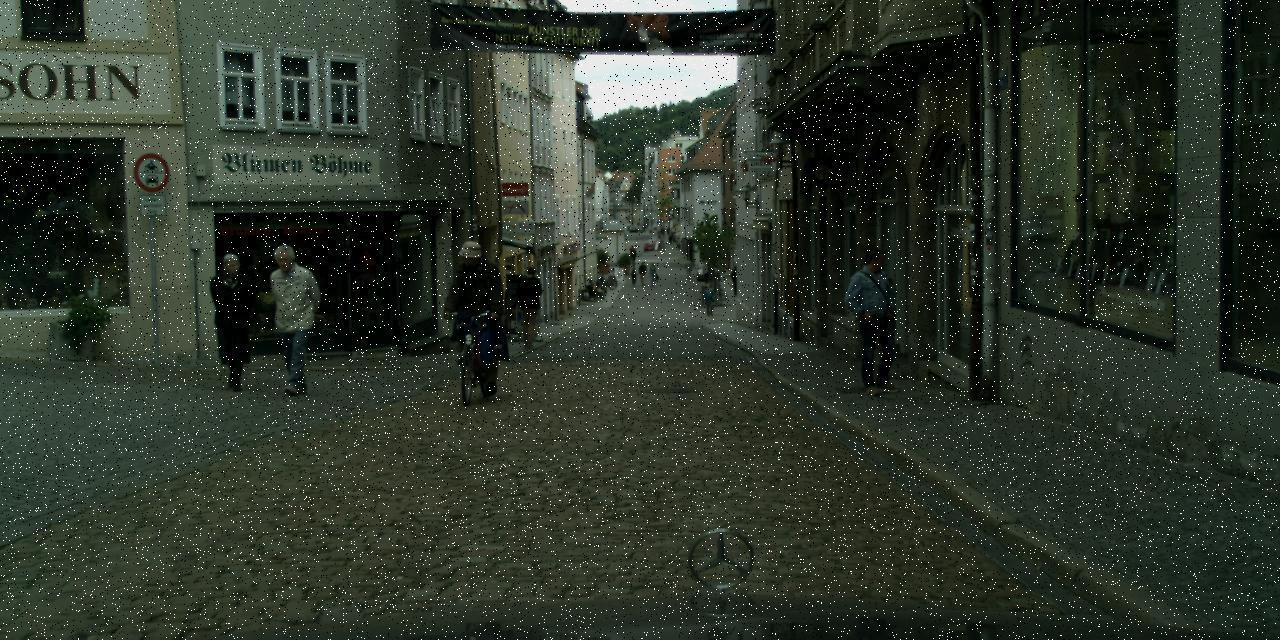ped: (260, 244, 322, 396), (847, 246, 906, 392), (446, 241, 501, 378), (204, 252, 258, 387), (512, 267, 546, 349), (701, 281, 715, 315), (730, 265, 742, 294), (637, 260, 647, 286), (628, 262, 638, 286), (648, 262, 656, 286), (701, 262, 710, 282), (628, 244, 636, 264), (684, 258, 691, 278), (668, 234, 672, 244), (666, 227, 670, 234)
